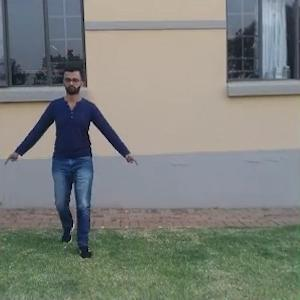land: (14, 67, 139, 253)
